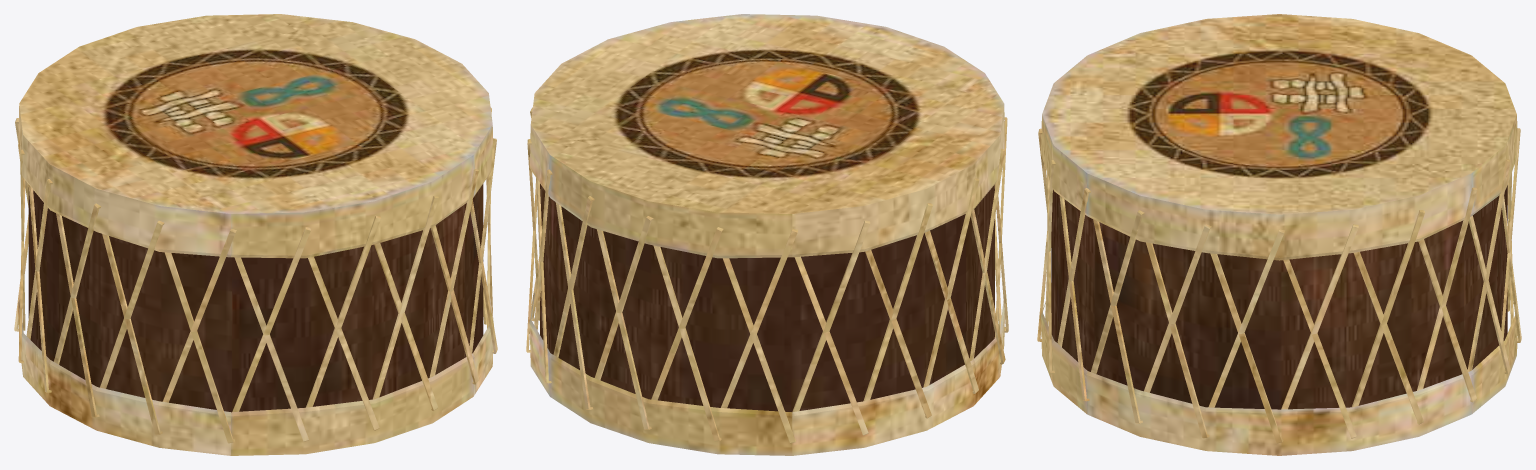
The model's file is instrument-great-drum_dot20.glb.
3 renders of one model, left to right at view 1: azimuth 30°, elevation 25°; view 2: azimuth 150°, elevation 25°; view 3: azimuth 270°, elevation 25°, orthographic.
Parts seen in each view (by area): view 1: instrument_great_drum.003, instrument_great_drum.002, instrument_great_drum.001; view 2: instrument_great_drum.003, instrument_great_drum.002, instrument_great_drum.001; view 3: instrument_great_drum.003, instrument_great_drum.002, instrument_great_drum.001.
Part boxes in pixels (x1,y1,x2,y2): instrument_great_drum.003: (18, 14, 493, 455); instrument_great_drum.002: (28, 184, 483, 412); instrument_great_drum.001: (14, 107, 497, 443); instrument_great_drum.003: (529, 14, 1004, 455); instrument_great_drum.002: (540, 183, 994, 411); instrument_great_drum.001: (526, 107, 1008, 443); instrument_great_drum.003: (1041, 14, 1517, 455); instrument_great_drum.002: (1051, 185, 1507, 409); instrument_great_drum.001: (1037, 128, 1521, 443).
Bounding box in the file's own units: 0.787 × 0.4323 × 0.787.
3 materials, 3 textured.
